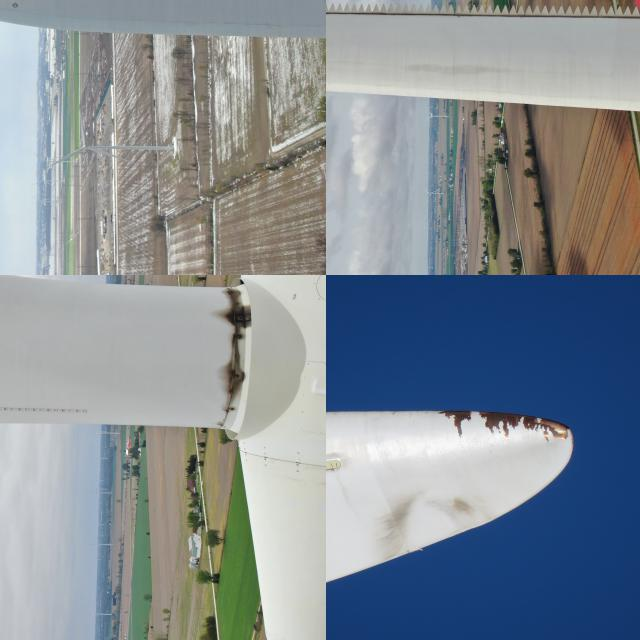damage: (429, 398, 583, 448), (207, 342, 258, 402), (208, 284, 262, 332)
